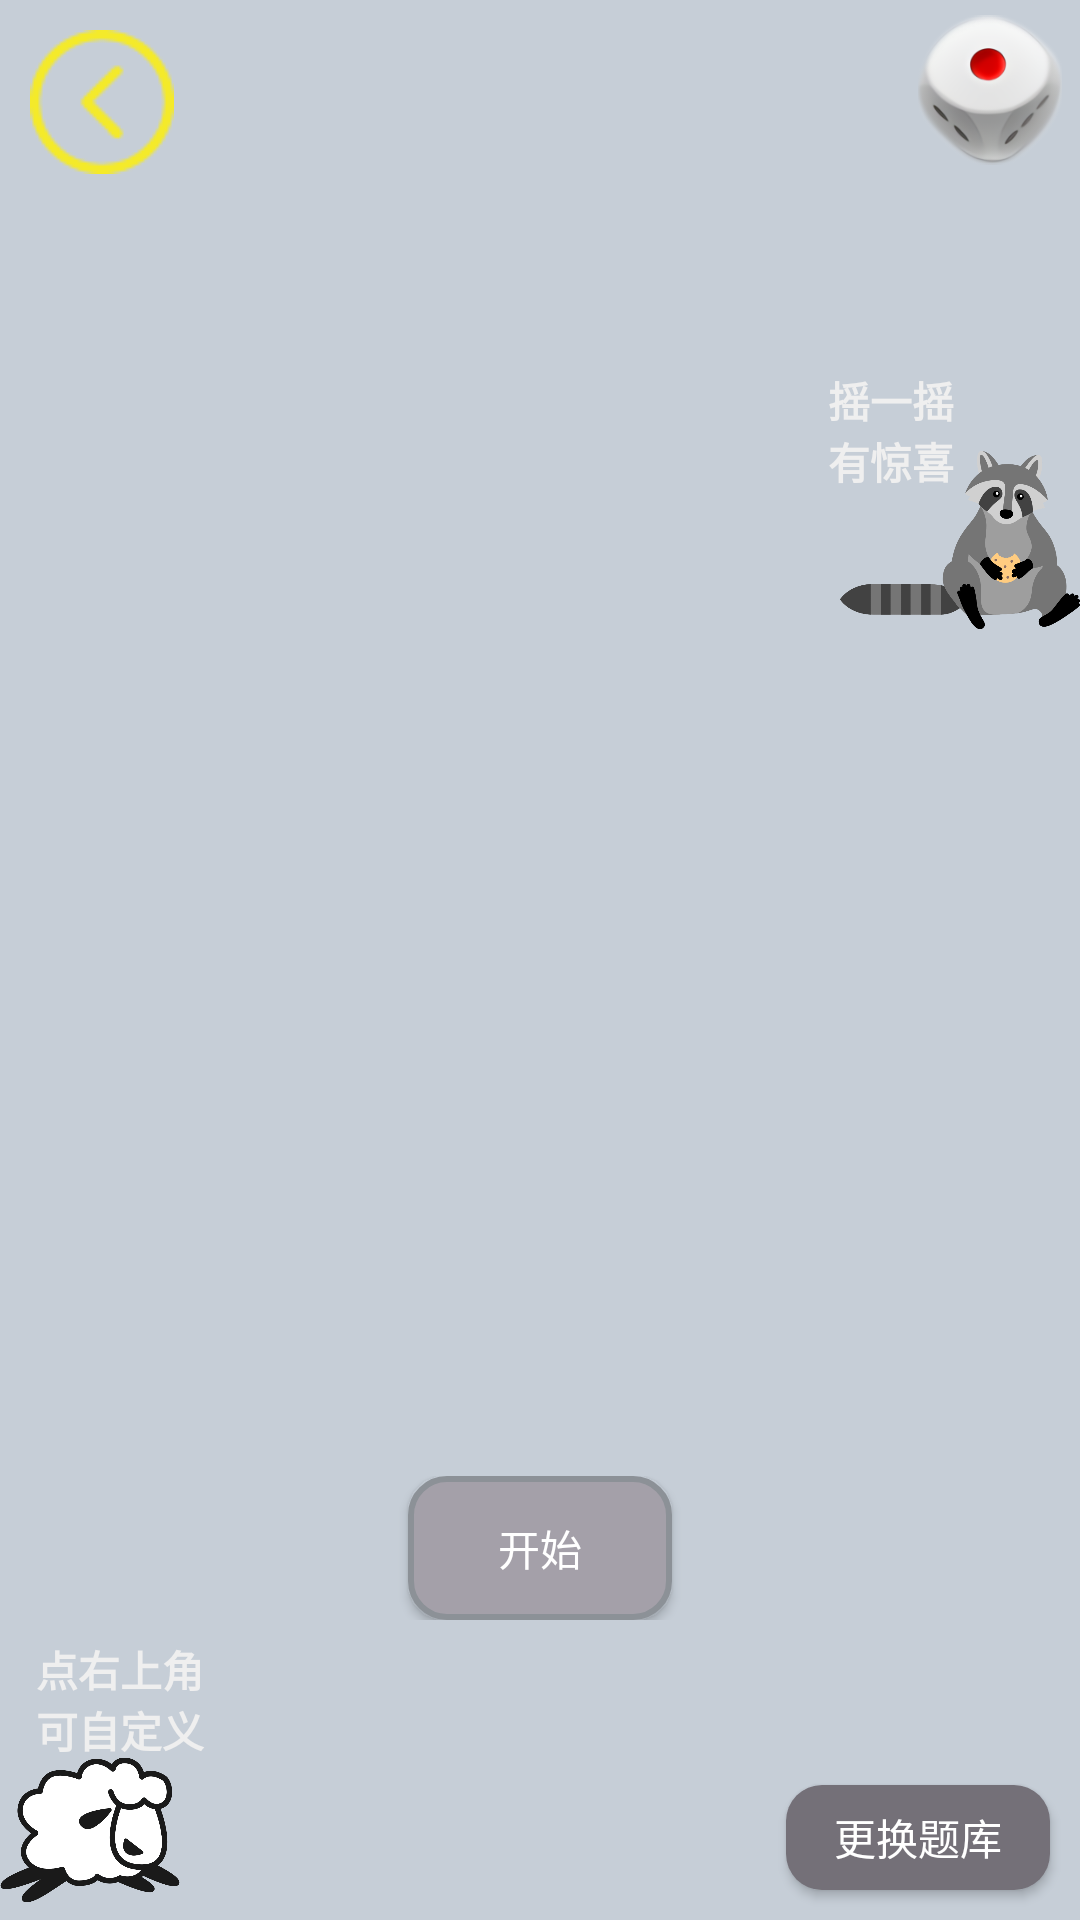

Icon click points for this 1080*1920 phone screenshot, format point (x, y):
back: point (102, 102)
touzi: point (988, 90)
yang: point (90, 1830)
